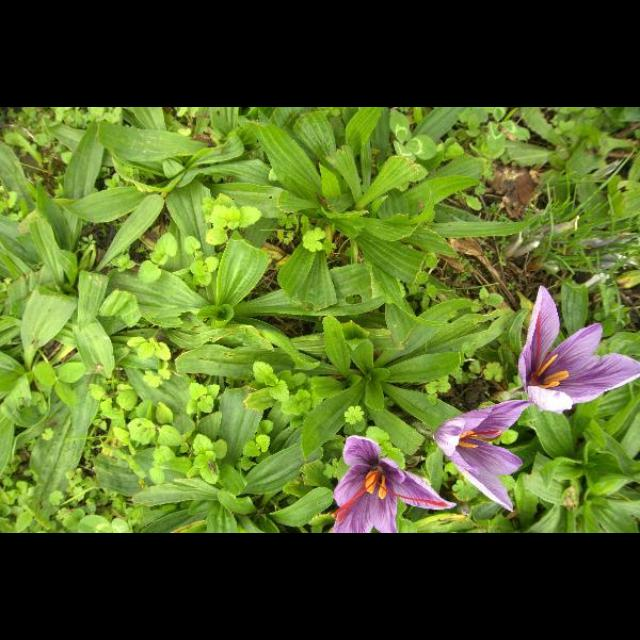flower: (518, 287, 640, 413), (331, 435, 457, 533), (434, 402, 530, 512)
